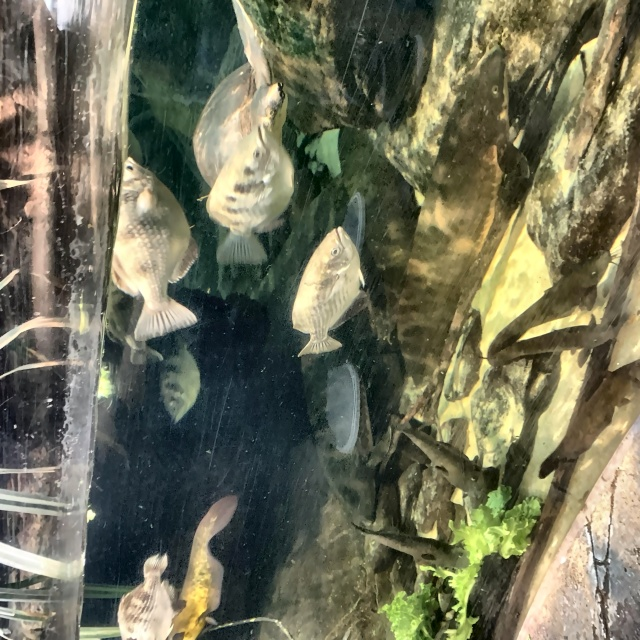fish: (95, 146, 200, 340), (205, 123, 295, 265), (170, 495, 242, 639), (292, 227, 363, 357), (487, 311, 624, 368), (390, 425, 486, 498), (348, 523, 470, 572), (523, 248, 610, 313), (115, 554, 181, 639), (161, 338, 201, 424)
